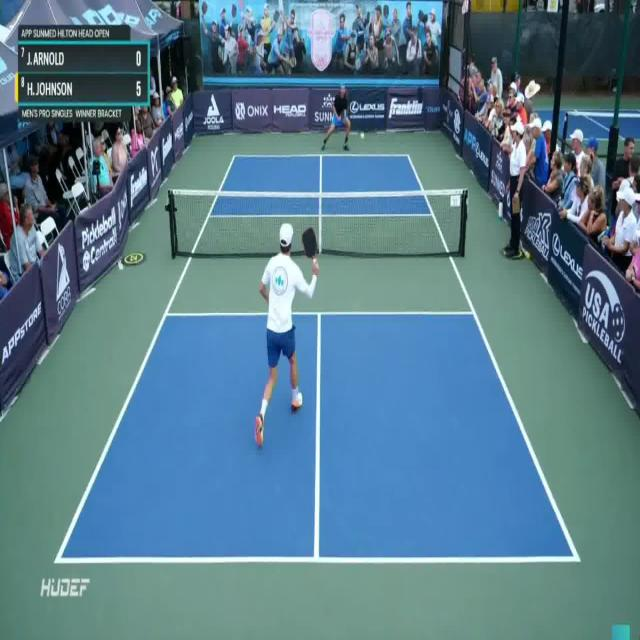Court: (57, 155, 578, 561)
ball: (357, 129, 367, 142)
